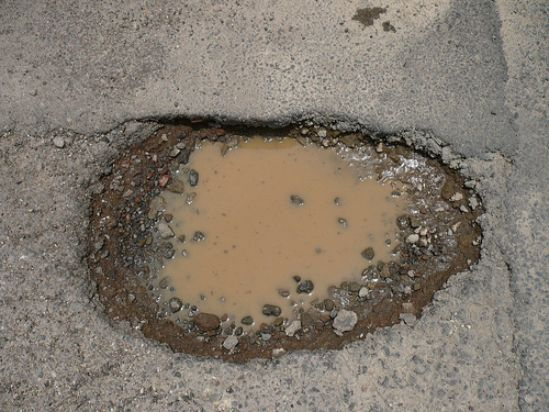pothole: (65, 106, 495, 367)
